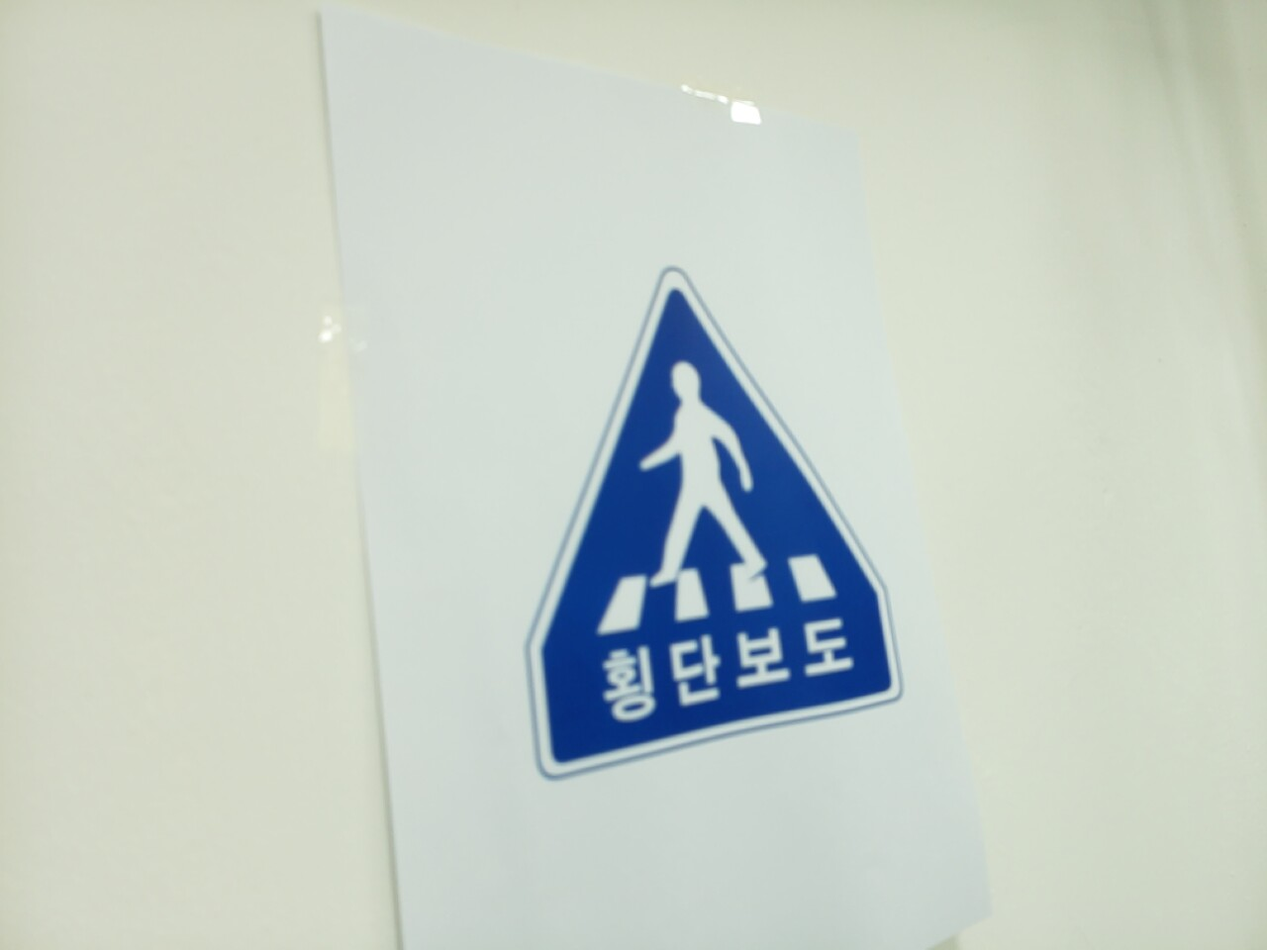crosswalk: (531, 276, 903, 776)
